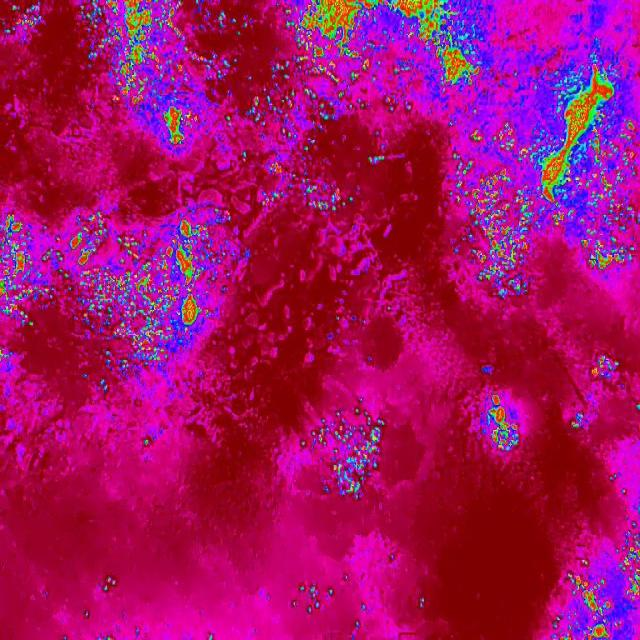fire: (447, 38, 640, 304), (0, 202, 235, 394), (230, 0, 517, 99), (70, 0, 227, 158), (216, 83, 398, 219), (537, 531, 640, 640), (298, 404, 394, 504), (474, 388, 526, 460), (278, 579, 342, 623), (0, 0, 46, 48), (593, 346, 629, 386), (94, 576, 122, 599), (564, 404, 584, 434)
